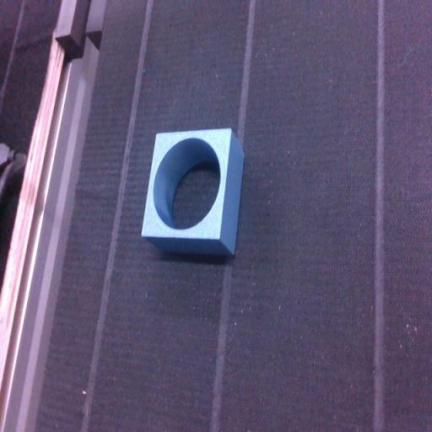square: (142, 129, 243, 254)
